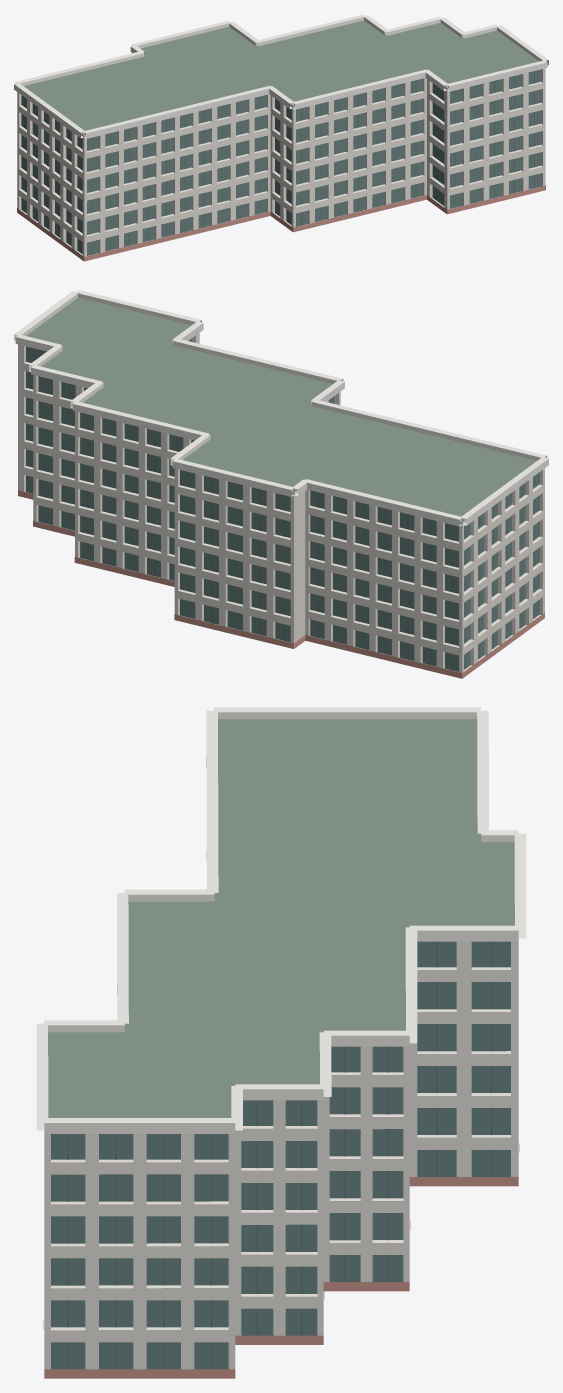
The picture shows the model from 3 angles, top to bottom: view 1: azimuth 30°, elevation 25°; view 2: azimuth 150°, elevation 25°; view 3: azimuth 270°, elevation 25°; orthographic projection. The views are drawn at different scales.
Parts seen in each view (by area): view 1: gradSchool__wall, gradSchool__glass, gradSchool__roof, gradSchool__trim, gradSchool__base, gradSchool__frame; view 2: gradSchool__wall, gradSchool__roof, gradSchool__glass, gradSchool__trim, gradSchool__base, gradSchool__frame; view 3: gradSchool__roof, gradSchool__wall, gradSchool__glass, gradSchool__trim, gradSchool__base, gradSchool__frame.
Boxes of the visible parts, left/top/right/bottom form: gradSchool__wall: left=17, top=68, right=545, bottom=260; gradSchool__glass: left=21, top=69, right=541, bottom=255; gradSchool__roof: left=24, top=20, right=538, bottom=135; gradSchool__trim: left=14, top=14, right=548, bottom=138; gradSchool__base: left=17, top=185, right=545, bottom=261; gradSchool__frame: left=25, top=71, right=534, bottom=254; gradSchool__wall: left=18, top=333, right=544, bottom=678; gradSchool__roof: left=26, top=297, right=536, bottom=522; gradSchool__glass: left=26, top=338, right=539, bottom=671; gradSchool__trim: left=14, top=290, right=548, bottom=526; gradSchool__base: left=18, top=490, right=544, bottom=678; gradSchool__frame: left=41, top=350, right=534, bottom=670; gradSchool__roof: left=48, top=719, right=514, bottom=1117; gradSchool__wall: left=44, top=941, right=518, bottom=1369; gradSchool__glass: left=51, top=941, right=510, bottom=1369; gradSchool__trim: left=36, top=707, right=526, bottom=1133; gradSchool__base: left=43, top=1143, right=519, bottom=1378; gradSchool__frame: left=67, top=941, right=491, bottom=1369.
Size of the model in its own units: 76.48 by 22.2 by 38.1.
